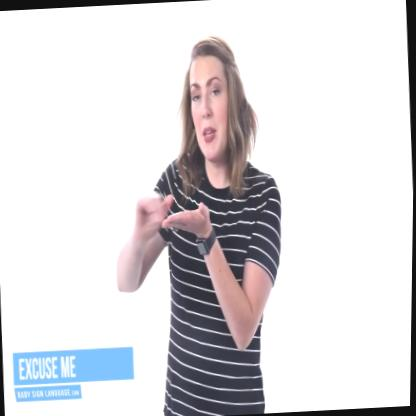ExcuseMe: (128, 175, 214, 248)
